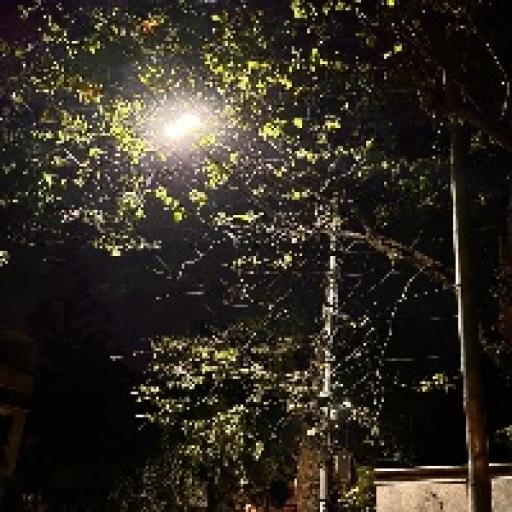Working: (150, 104, 213, 149)
